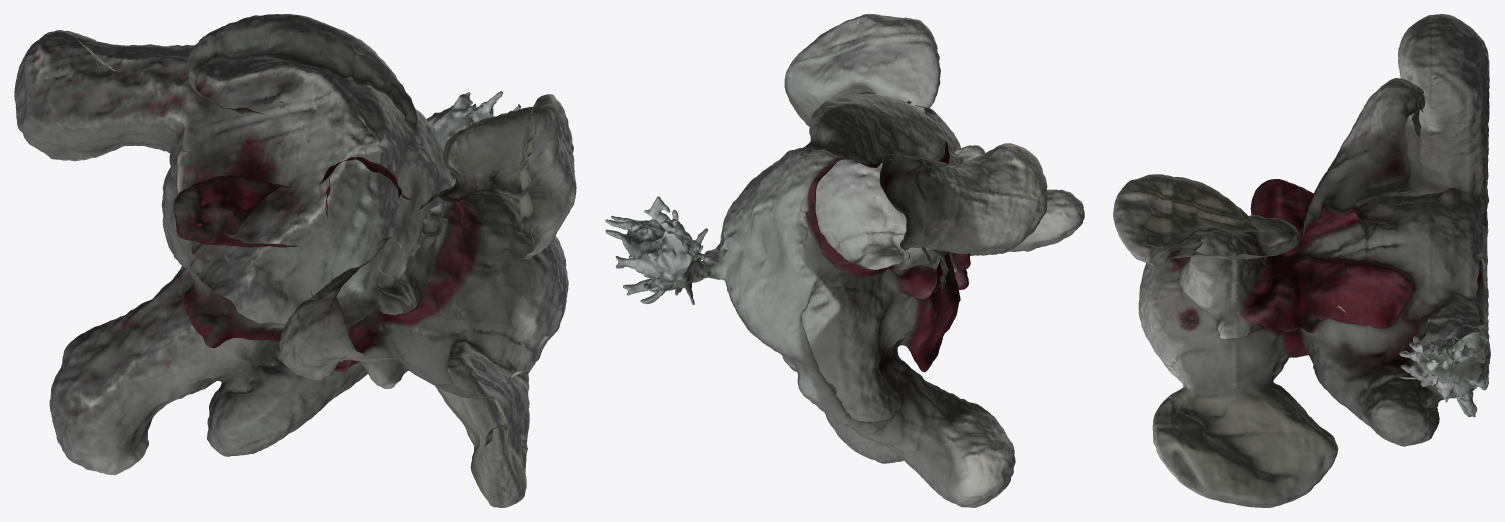
File: elephant.glb
3 renders of one model, left to right at view 1: azimuth 30°, elevation 25°; view 2: azimuth 150°, elevation 25°; view 3: azimuth 270°, elevation 25°, orthographic. The views are drawn at different scales.
Bounding box in the file's own units: 1 × 0.828 × 0.7796.
